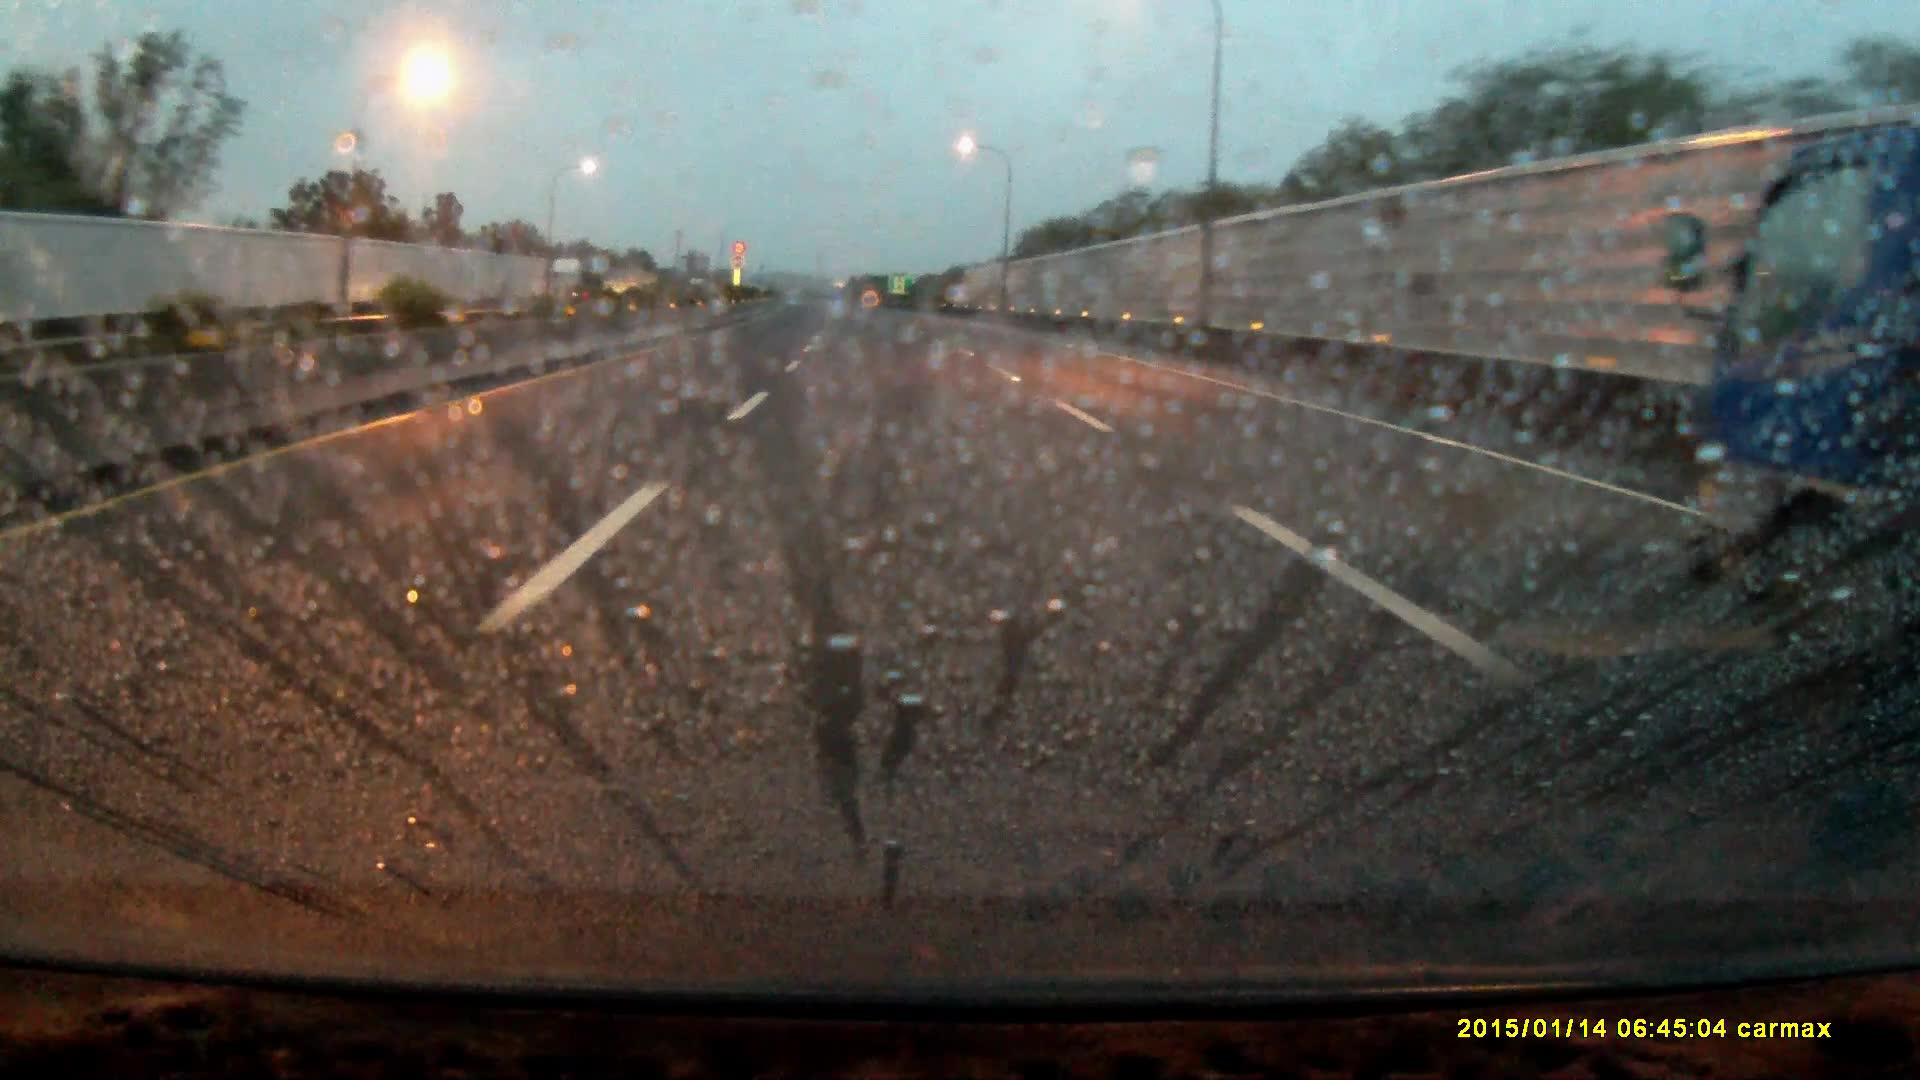vehicle: (545, 262, 597, 311)
